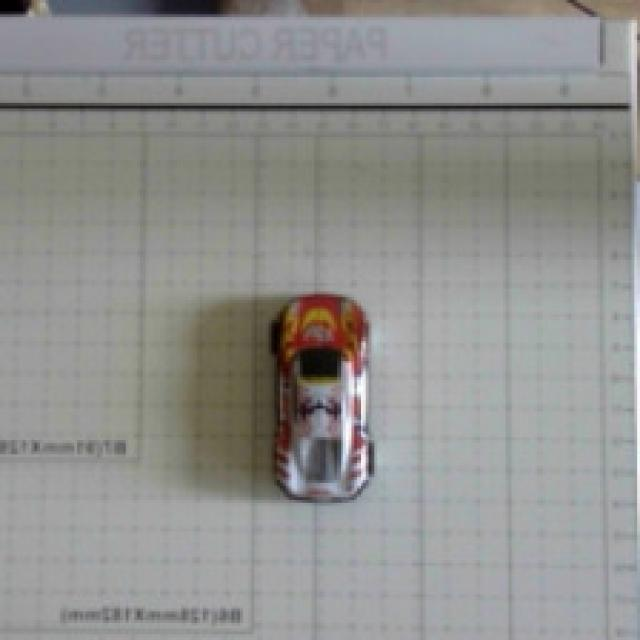Red Car: (217, 250, 442, 538)
